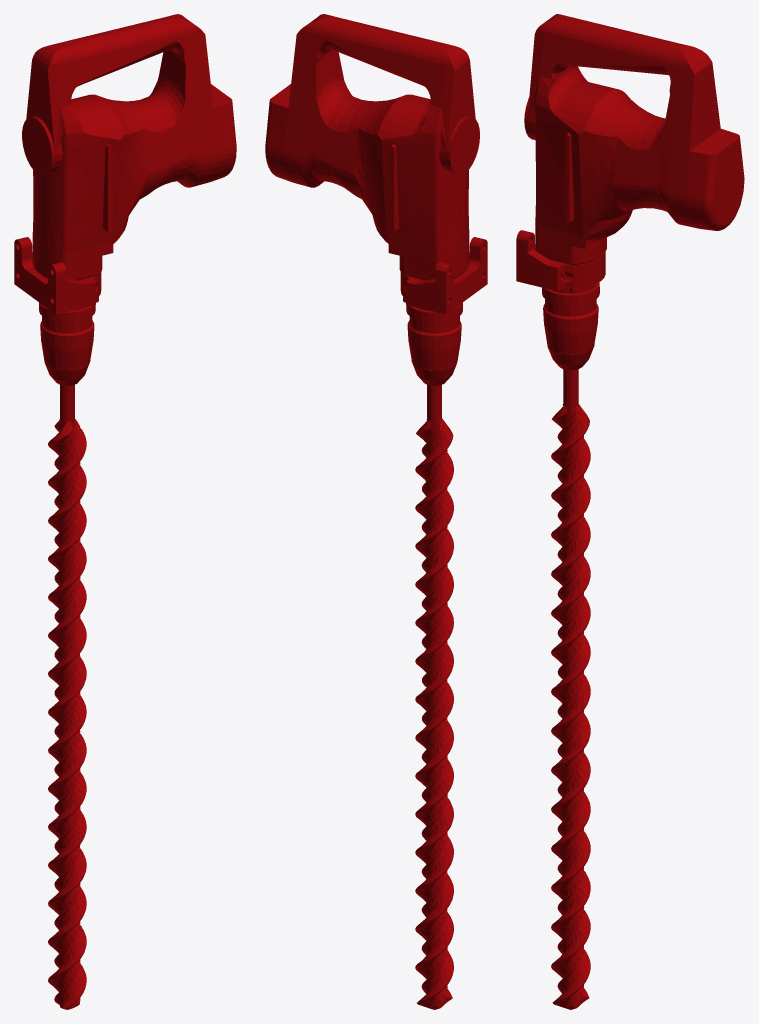
Rendered from prismm_drill.dae.
3 views of the same model, side by side, from view 1: azimuth 30°, elevation 25°; view 2: azimuth 150°, elevation 25°; view 3: azimuth 330°, elevation 25° (orthographic). The views are drawn at different scales.
Parts seen in each view (by area): view 1: PRISMM Drill Assembly v7; view 2: PRISMM Drill Assembly v7; view 3: PRISMM Drill Assembly v7.
Boxes of the visible parts, <box> form: PRISMM Drill Assembly v7: <box>14,14,236,1009</box>; PRISMM Drill Assembly v7: <box>265,14,487,1009</box>; PRISMM Drill Assembly v7: <box>516,14,744,1009</box>.
Size of the model in its own units: 0.2587 by 0.113 by 1.28.
